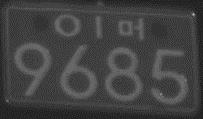0: (53, 12, 81, 37)
1: (87, 14, 111, 38)
5: (149, 48, 189, 106)
6: (58, 43, 99, 100)
8: (103, 45, 143, 103)
9: (13, 41, 51, 95)
머: (116, 17, 144, 42)
